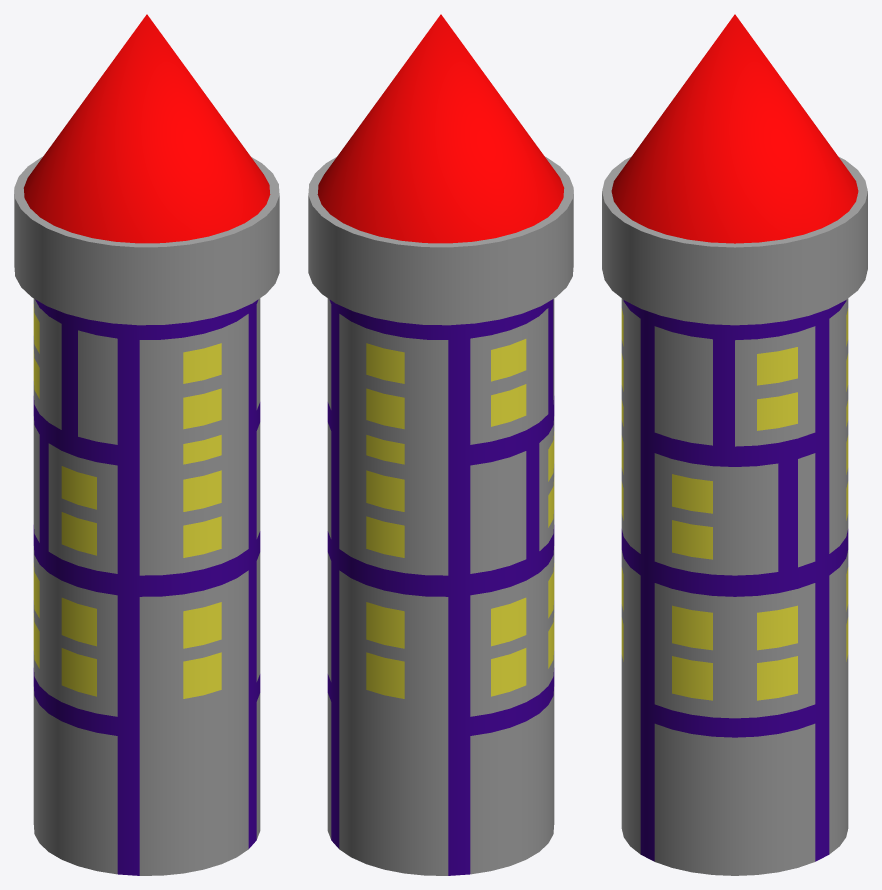
File: F_TOWER.fbx
The picture shows the model from 3 angles, left to right: view 1: azimuth 30°, elevation 25°; view 2: azimuth 150°, elevation 25°; view 3: azimuth 270°, elevation 25°; orthographic projection.
Visible parts, largest first — view 1: F_TOWER; view 2: F_TOWER; view 3: F_TOWER.
Boxes of the visible parts, box(x1,y1,x2,y2) form: F_TOWER: box(14, 14, 279, 875); F_TOWER: box(308, 14, 573, 875); F_TOWER: box(602, 14, 867, 875).
Bounding box in the file's own units: 1725 × 5826 × 1725.
